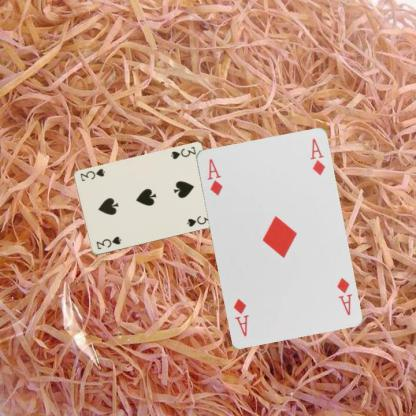3s: (94, 234, 122, 251), (168, 144, 197, 160)
Ad: (204, 156, 224, 196), (334, 275, 353, 316)
